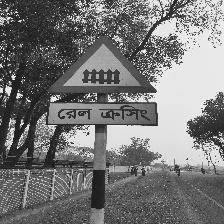Rail-crossing: (46, 36, 159, 128)
